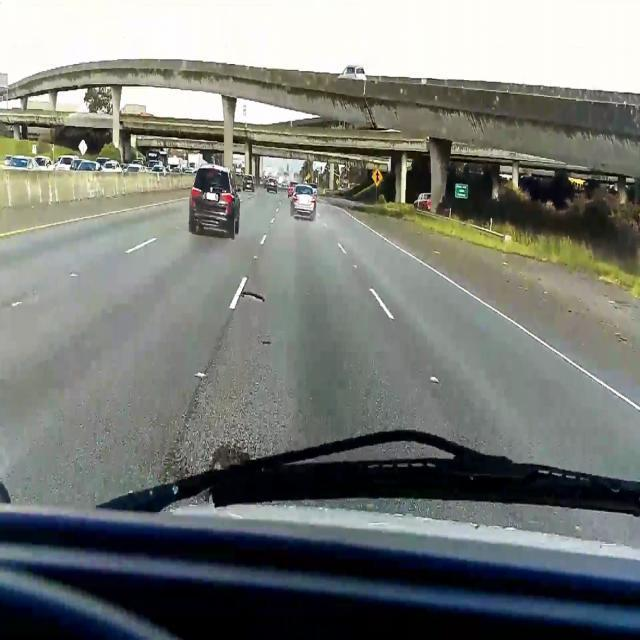Buraco: (239, 290, 268, 304)
